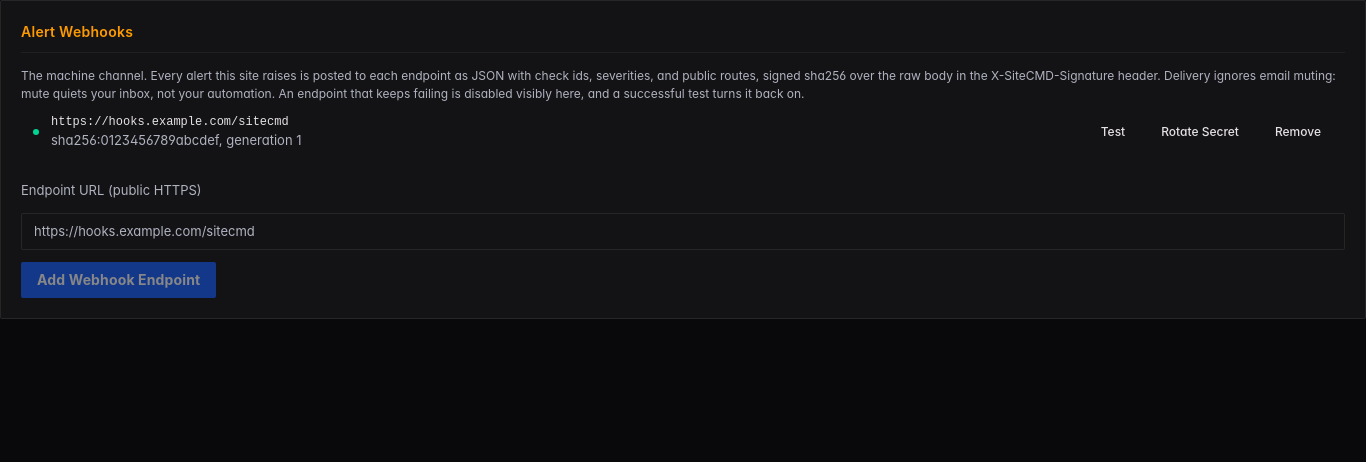
Test case: ConnectedAlertWebhooksSection › rotates a secret and explains the dual-signature overlap
Click the button "Rotate Secret": (1200, 132) [1149,116,1251,148]
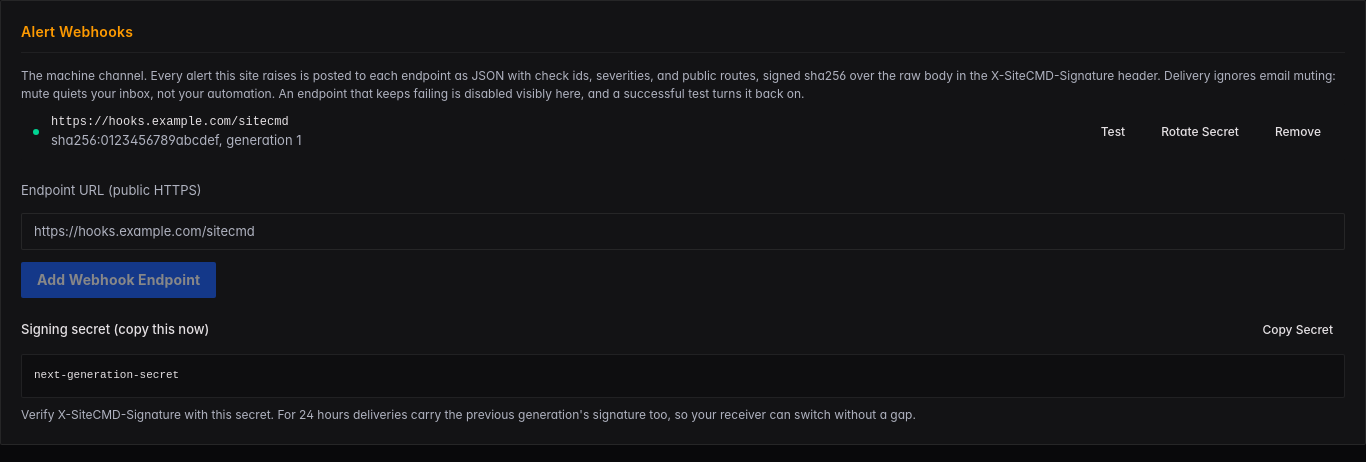
Expected: the text "next-generation-secret" is shown, [21,354,1345,398]
Expected: the text "previous generation's signature too" is shown, [21,407,916,422]
